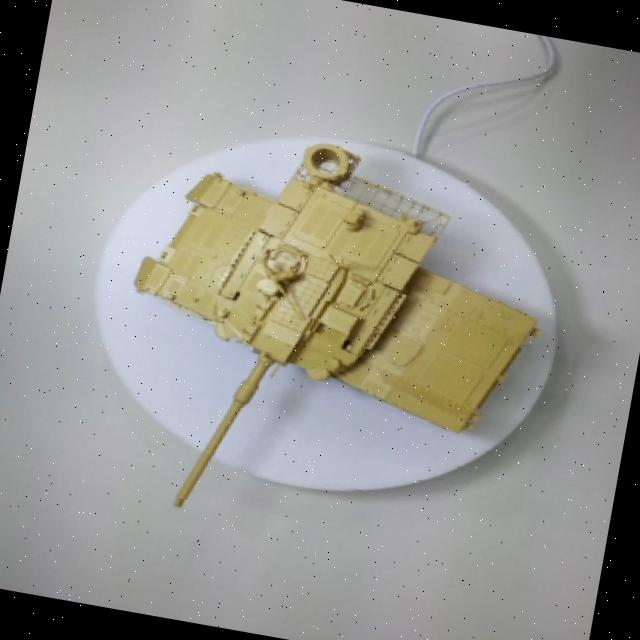korea tank: (61, 110, 558, 600)
